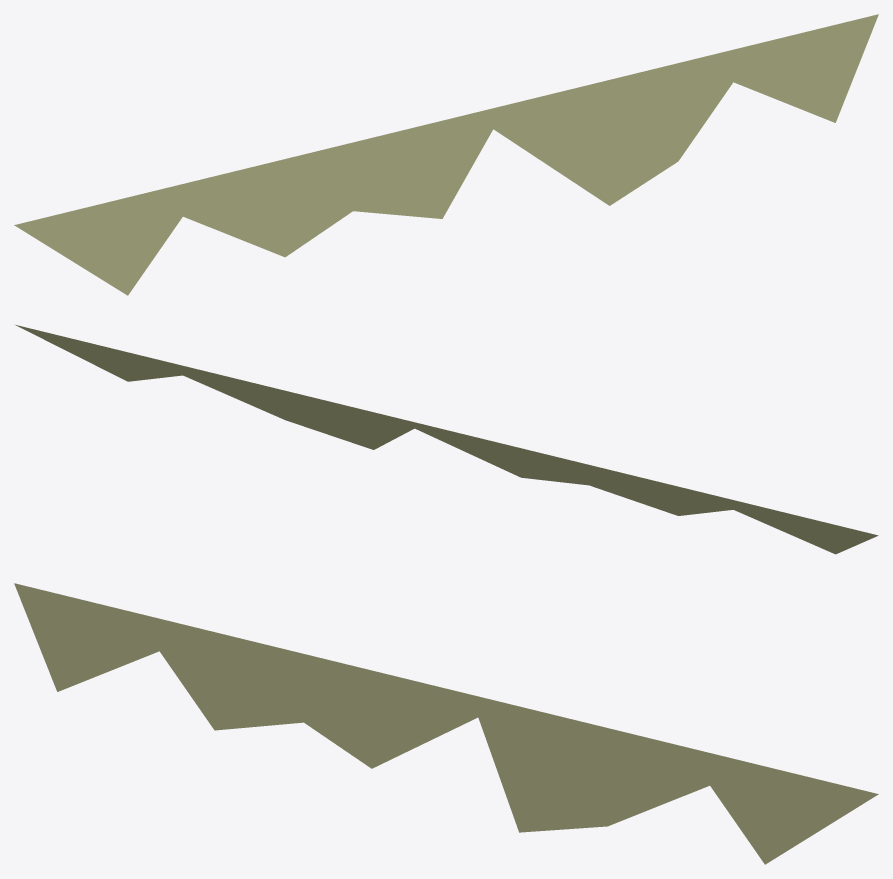
The model's file is Grass_End.fbx.
3 views of the same model, one above another, from view 1: azimuth 30°, elevation 25°; view 2: azimuth 150°, elevation 25°; view 3: azimuth 330°, elevation 25° (orthographic).
Visible parts, largest first — view 1: Grass_End; view 2: Grass_End; view 3: Grass_End.
Boxes of the visible parts, x1,y1,x2,y2 form: Grass_End: (14,14,878,295); Grass_End: (15,325,878,554); Grass_End: (14,583,878,864).
Size of the model in its own units: 1 by 0.0906 by 0.0906.
